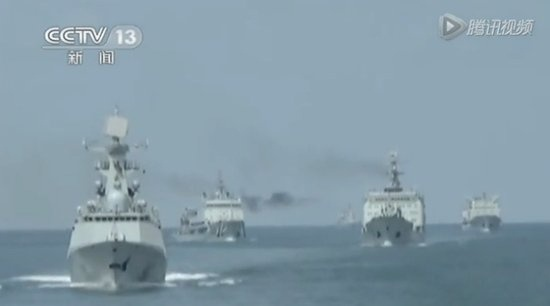warship: (59, 119, 167, 295), (347, 151, 434, 247), (175, 174, 247, 242), (458, 189, 507, 231)
